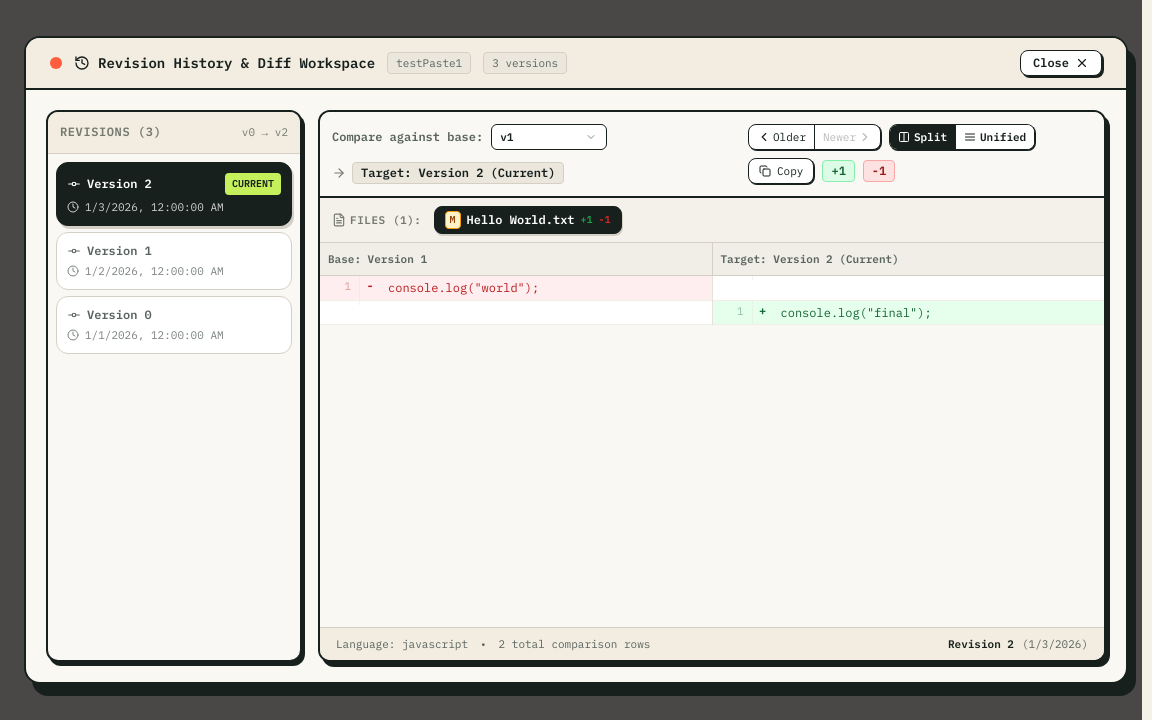
Test: RevisionWorkspace — Lifecycle & Versioning › FE-REV-06: comparing a version against itself shows zero additions/deletions and identical notice
The width and height of the screenshot is (1152, 720).
Set base to match the current target (v2 ↔ v2 comparison)
Select "v2 (Current)" in the dropdown named "Compare against base version". click: (549, 137)
box: [491,124,607,150]
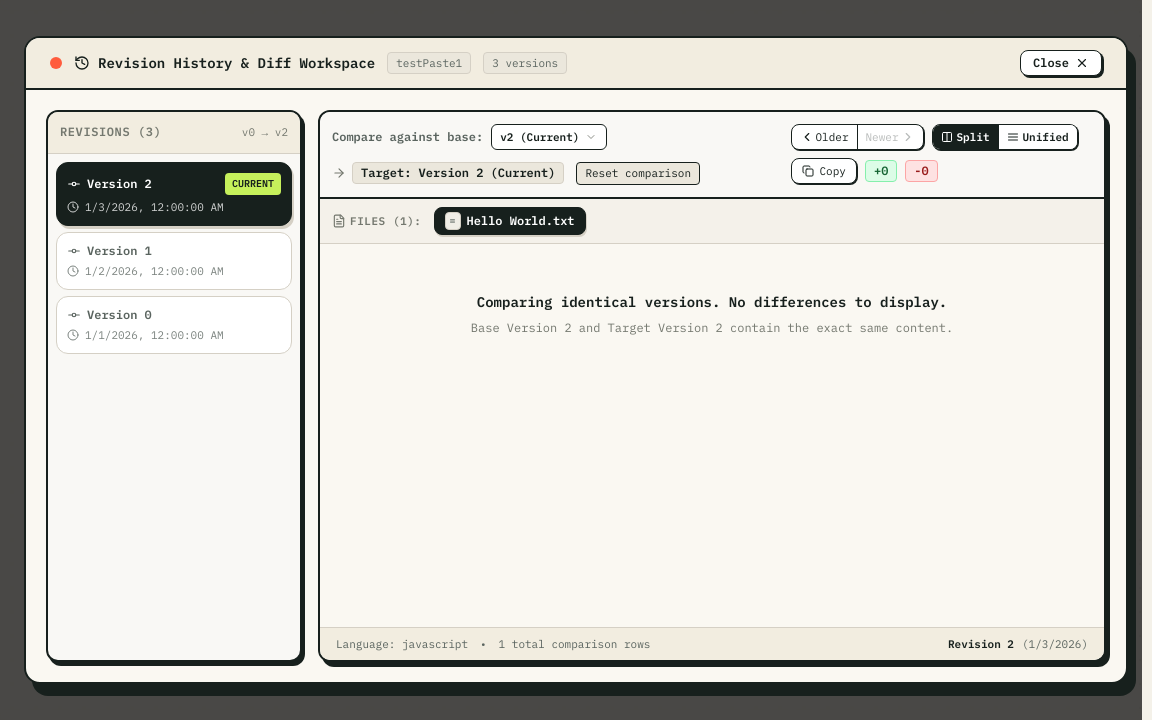
Expected: the text "Comparing identical versions. No differences to display." is shown, [477,292,947,310]
Expected: the text "+0" is shown, [865,160,897,182]
Expected: the row with test id "diff-row-add" is gone
